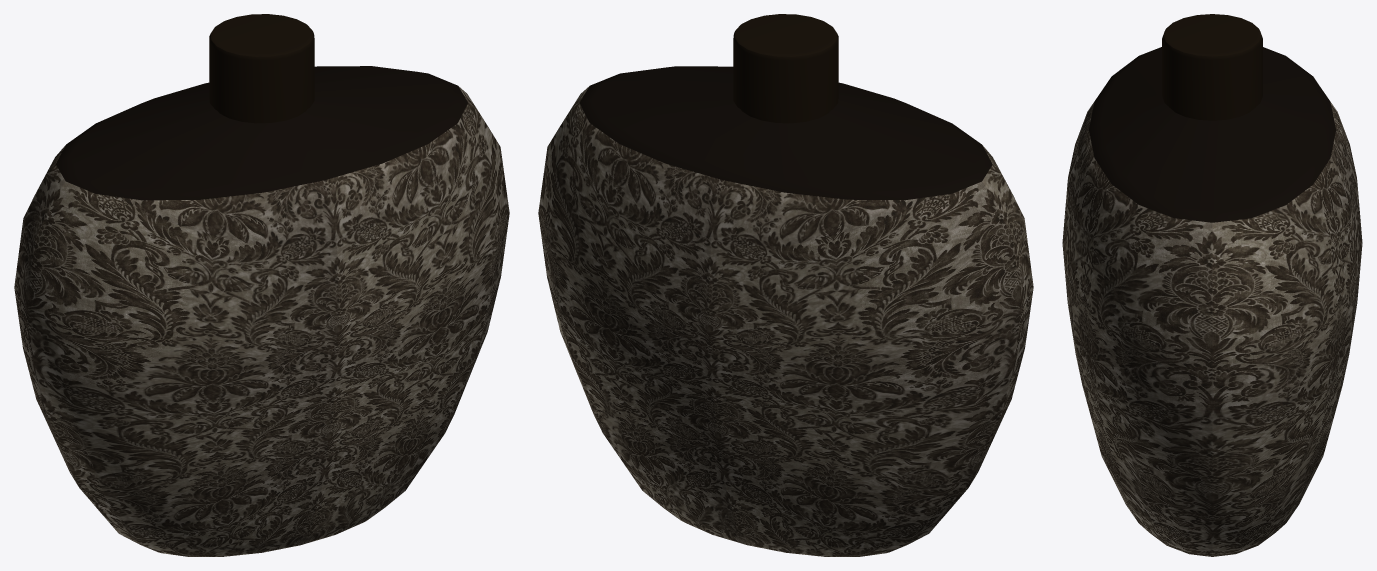
The model's file is perfume.fbx.
3 views of the same model, side by side, from view 1: azimuth 30°, elevation 25°; view 2: azimuth 150°, elevation 25°; view 3: azimuth 270°, elevation 25° (orthographic). The views are drawn at different scales.
Visible parts, largest first — view 1: perfume; view 2: perfume; view 3: perfume.
Boxes of the visible parts, x1,y1,x2,y2 form: perfume: (14, 14, 509, 556); perfume: (538, 14, 1033, 556); perfume: (1062, 14, 1362, 556).
Size of the model in its own units: 0.00564 by 0.00555 by 0.00322.
2 materials, 2 textured.
